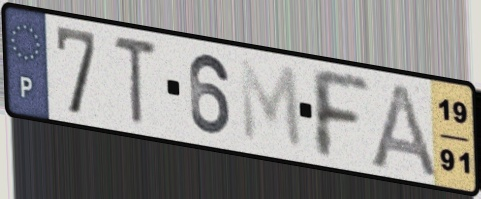6: (185, 50, 234, 138)
7: (53, 22, 98, 117)
A: (365, 79, 442, 181)
F: (306, 63, 374, 163)
M: (236, 55, 306, 155)
T: (111, 31, 160, 127)
